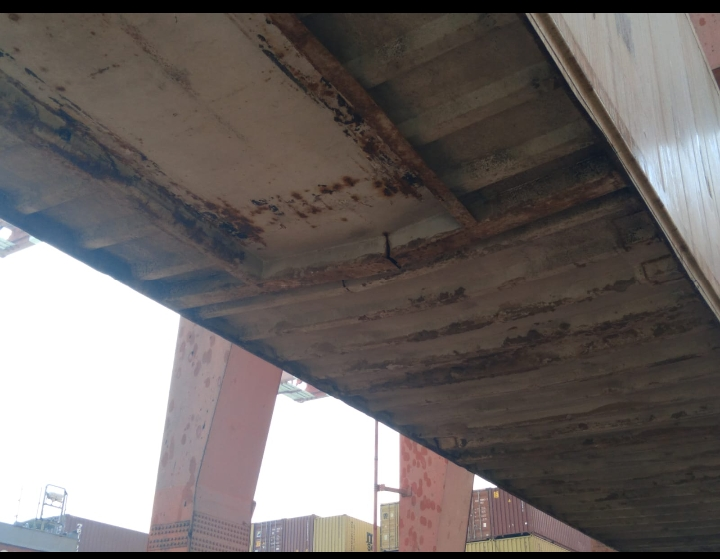bottom_side: (1, 4, 720, 543)
